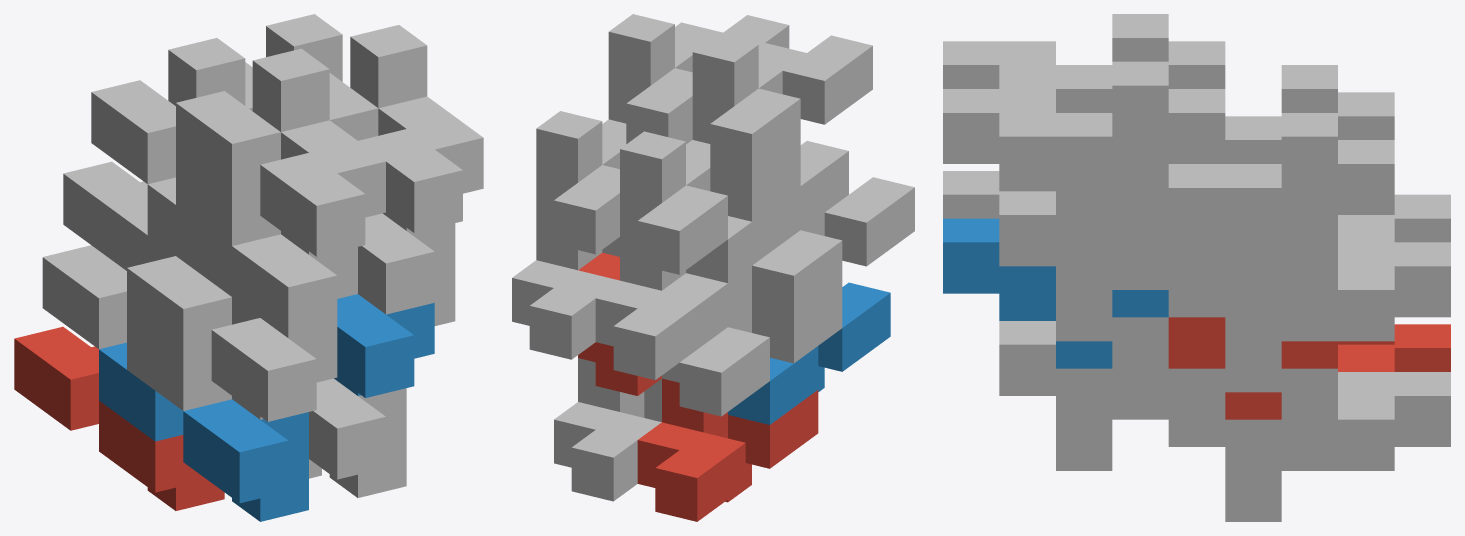
The model's file is tiling.obj.
3 views of the same model, side by side, from view 1: azimuth 30°, elevation 25°; view 2: azimuth 150°, elevation 25°; view 3: azimuth 270°, elevation 25° (orthographic). The views are drawn at different scales.
Visible parts, largest first — view 1: copy_2_domain_4, copy_2_domain_2, copy_2_domain_8, copy_1_domain_2, copy_2_domain_3, copy_2_domain_1, copy_1_domain_1, copy_1_domain_4, copy_1_domain_6, copy_1_domain_8, copy_2_domain_6, copy_1_domain_3 (+1 smaller); view 2: copy_2_domain_4, copy_2_domain_3, copy_1_domain_1, copy_2_domain_2, copy_2_domain_1, copy_2_domain_8, copy_1_domain_3, copy_2_domain_7, copy_1_domain_5, copy_1_domain_7, copy_1_domain_2, copy_1_domain_4 (+1 smaller); view 3: copy_2_domain_8, copy_1_domain_7, copy_1_domain_5, copy_2_domain_7, copy_1_domain_6, copy_1_domain_8, copy_2_domain_4, copy_2_domain_6, copy_2_domain_3, copy_2_domain_5, copy_1_domain_3, copy_1_domain_1 (+1 smaller).
Boxes of the visible parts, x1=… form: copy_2_domain_4: x1=176, y1=48, x2=385, y2=256; copy_2_domain_2: x1=127, y1=226, x2=337, y2=421; copy_2_domain_8: x1=329, y1=25, x2=483, y2=232; copy_1_domain_2: x1=99, y1=342, x2=308, y2=521; copy_2_domain_3: x1=91, y1=38, x2=280, y2=245; copy_2_domain_1: x1=42, y1=208, x2=231, y2=410; copy_1_domain_1: x1=14, y1=326, x2=224, y2=510; copy_1_domain_4: x1=147, y1=177, x2=357, y2=338; copy_1_domain_6: x1=309, y1=378, x2=406, y2=497; copy_1_domain_8: x1=358, y1=213, x2=455, y2=325; copy_2_domain_6: x1=334, y1=294, x2=434, y2=397; copy_1_domain_3: x1=63, y1=161, x2=175, y2=265; copy_2_domain_4: x1=692, y1=34, x2=872, y2=177; copy_2_domain_3: x1=620, y1=131, x2=800, y2=274; copy_1_domain_1: x1=637, y1=378, x2=818, y2=521; copy_2_domain_2: x1=752, y1=177, x2=914, y2=319; copy_2_domain_1: x1=662, y1=273, x2=842, y2=416; copy_2_domain_8: x1=608, y1=14, x2=789, y2=144; copy_1_domain_3: x1=595, y1=237, x2=751, y2=380; copy_2_domain_7: x1=536, y1=111, x2=626, y2=254; copy_1_domain_5: x1=554, y1=358, x2=661, y2=501; copy_1_domain_7: x1=512, y1=216, x2=619, y2=359; copy_1_domain_2: x1=728, y1=282, x2=890, y2=424; copy_1_domain_4: x1=686, y1=141, x2=848, y2=283; copy_2_domain_8: x1=943, y1=61, x2=1225, y2=238; copy_1_domain_7: x1=1168, y1=239, x2=1450, y2=392; copy_1_domain_5: x1=1168, y1=368, x2=1450, y2=521; copy_2_domain_7: x1=1168, y1=113, x2=1394, y2=289; copy_1_domain_6: x1=999, y1=317, x2=1225, y2=470; copy_1_domain_8: x1=999, y1=188, x2=1225, y2=341; copy_2_domain_4: x1=943, y1=14, x2=1225, y2=112; copy_2_domain_6: x1=943, y1=218, x2=1168, y2=368; copy_2_domain_3: x1=1225, y1=65, x2=1394, y2=163; copy_2_domain_5: x1=1168, y1=317, x2=1394, y2=419; copy_1_domain_3: x1=1338, y1=194, x2=1450, y2=242; copy_1_domain_1: x1=1338, y1=324, x2=1450, y2=371.
Bounding box in the file's own units: 5 × 9 × 9.
